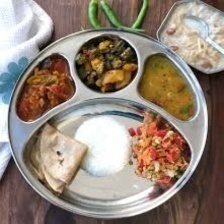sabzi: (136, 51, 198, 120)
